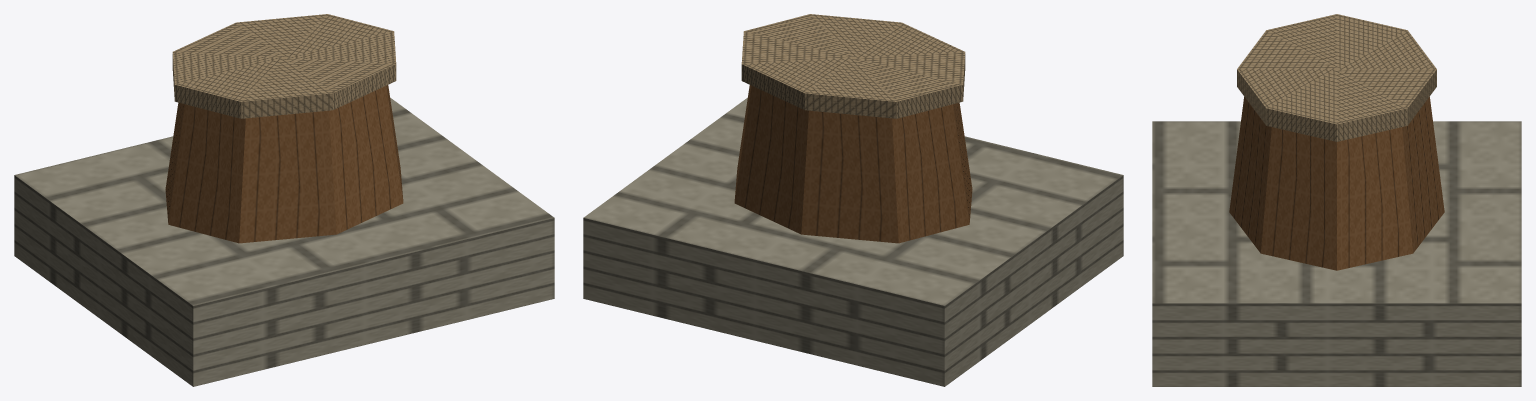
File: military-DRUM-1-lod2.glb
3 renders of one model, left to right at view 1: azimuth 30°, elevation 25°; view 2: azimuth 150°, elevation 25°; view 3: azimuth 270°, elevation 25°, orthographic. The views are drawn at different scales.
Size of the model in its own units: 0.56 by 0.325 by 0.48.
Materials: 1 (1 with a texture image).
